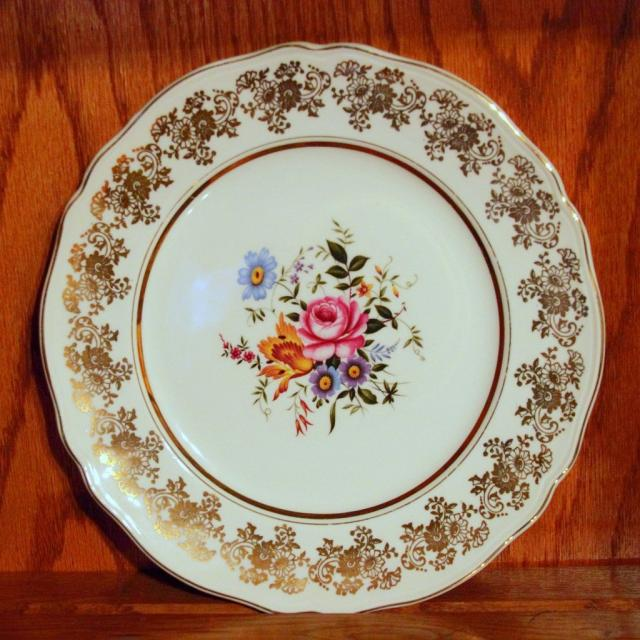non-organic waste: (30, 29, 608, 619)
